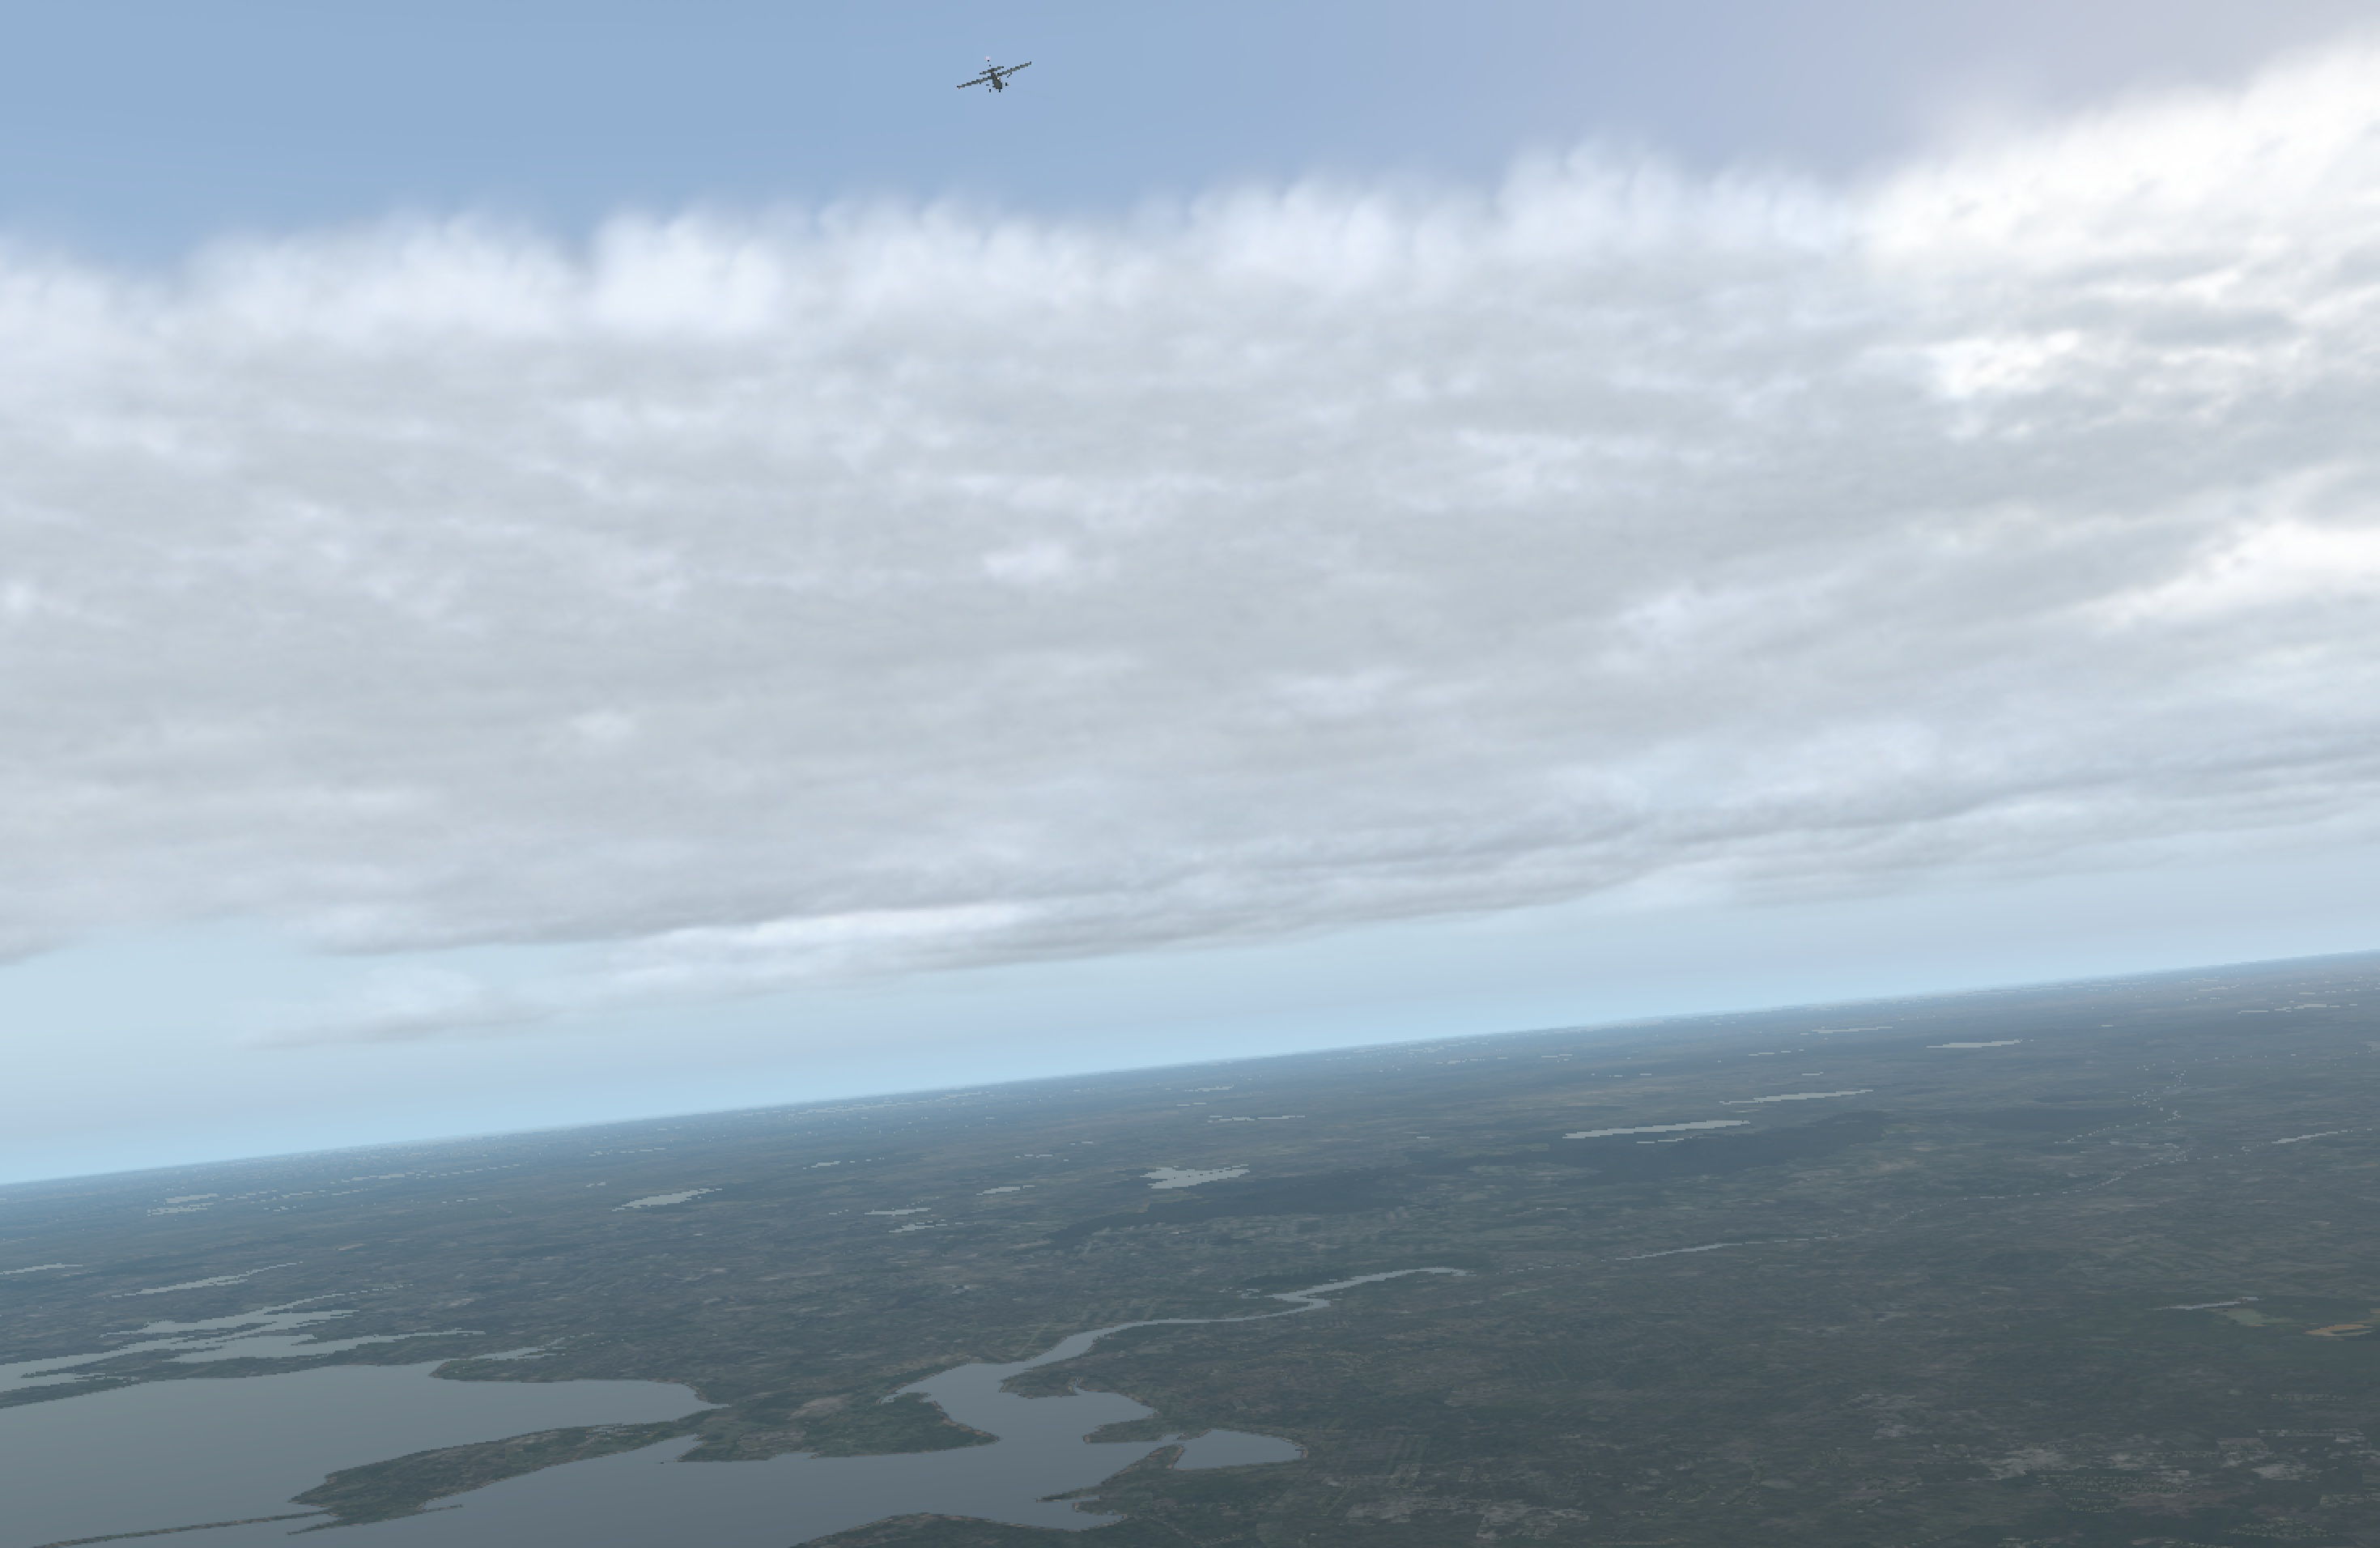aircraft: (970, 71, 1023, 90)
